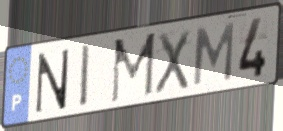4: (237, 15, 269, 80)
I: (79, 42, 93, 110)
M: (109, 30, 158, 106), (191, 19, 236, 88)
N: (33, 47, 72, 116)
X: (153, 26, 192, 97)
